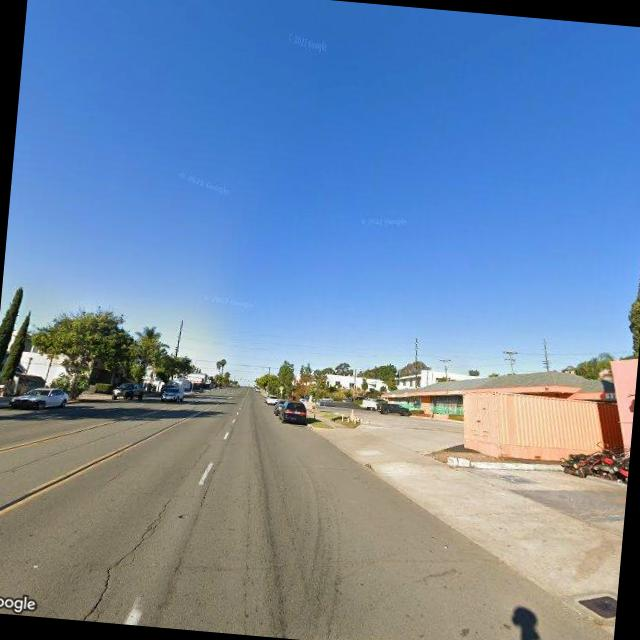pothole: (68, 484, 172, 626), (188, 438, 209, 468)
